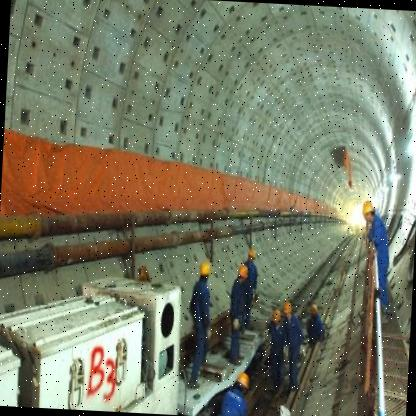capacete: (236, 367, 254, 394), (198, 258, 213, 284), (360, 196, 374, 223), (280, 296, 295, 321), (236, 262, 250, 283), (270, 304, 282, 324), (247, 244, 258, 264), (306, 300, 318, 316)
